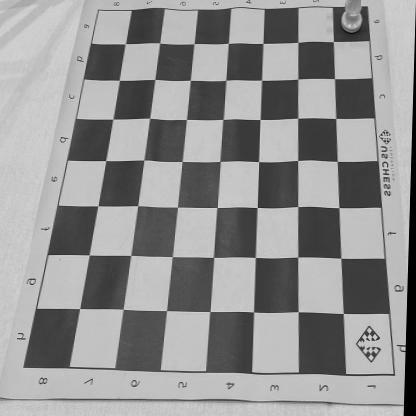white-knight: (340, 0, 364, 34)
